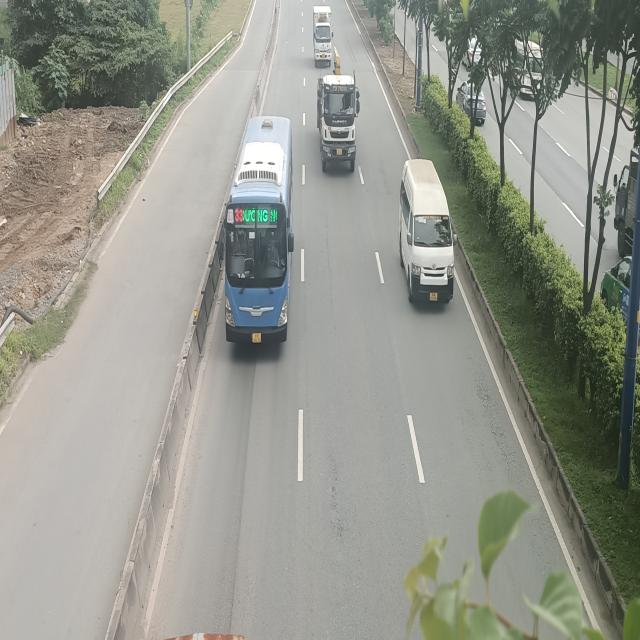coach: (224, 114, 295, 344)
truck: (317, 72, 360, 172), (313, 7, 334, 67)
van: (399, 160, 458, 304)
